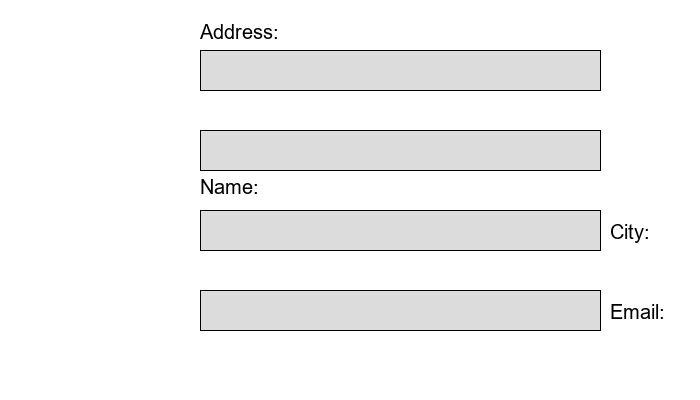Label: (200, 20, 274, 35), (200, 175, 253, 190), (610, 300, 659, 315), (610, 220, 644, 239)
Textbox: (200, 50, 600, 90), (200, 130, 600, 170), (200, 210, 600, 250), (200, 290, 600, 330)
